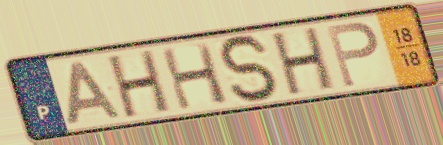A: (65, 58, 125, 127)
H: (157, 40, 232, 113), (106, 46, 174, 122), (270, 23, 338, 99)
P: (322, 20, 381, 90)
S: (215, 33, 284, 105)
